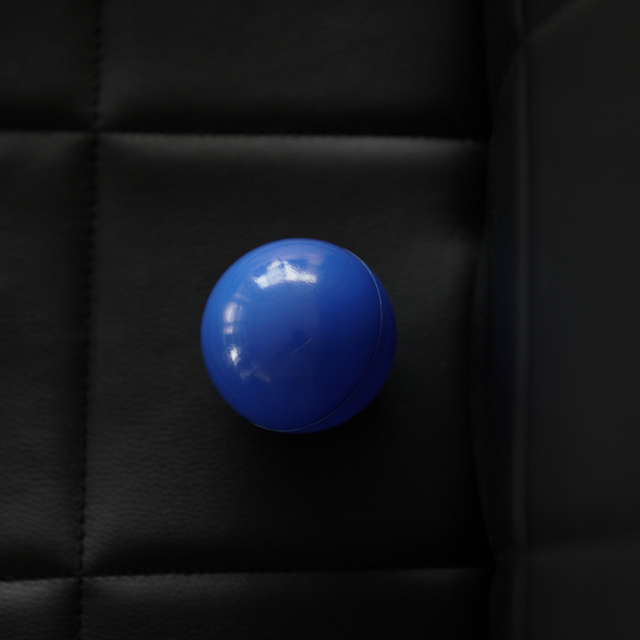Ball: (203, 238, 399, 435)
